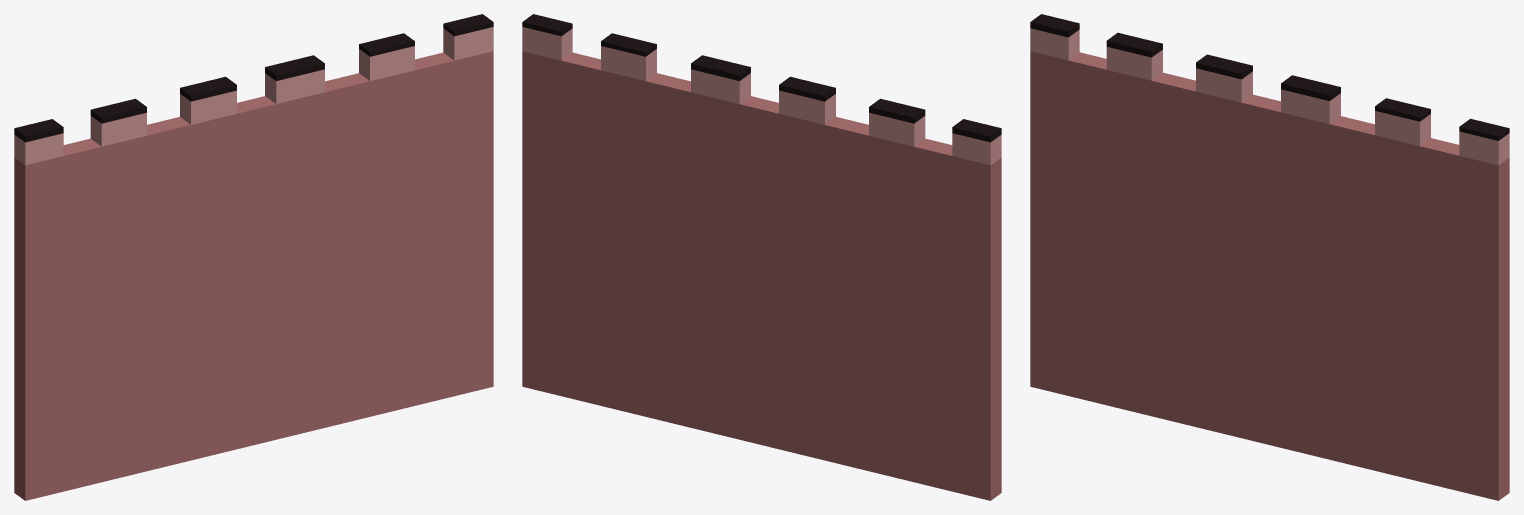
File: CastleWall1FBX.fbx
3 views of the same model, side by side, from view 1: azimuth 30°, elevation 25°; view 2: azimuth 150°, elevation 25°; view 3: azimuth 330°, elevation 25° (orthographic).
Visible parts, largest first — view 1: CastleWall1; view 2: CastleWall1; view 3: CastleWall1.
Part boxes in pixels (left/top/right/bottom): CastleWall1: left=14, top=14, right=493, bottom=500; CastleWall1: left=522, top=14, right=1001, bottom=500; CastleWall1: left=1030, top=14, right=1509, bottom=500.
Bounding box in the file's own units: 12.6 × 9.37 × 0.5207.
